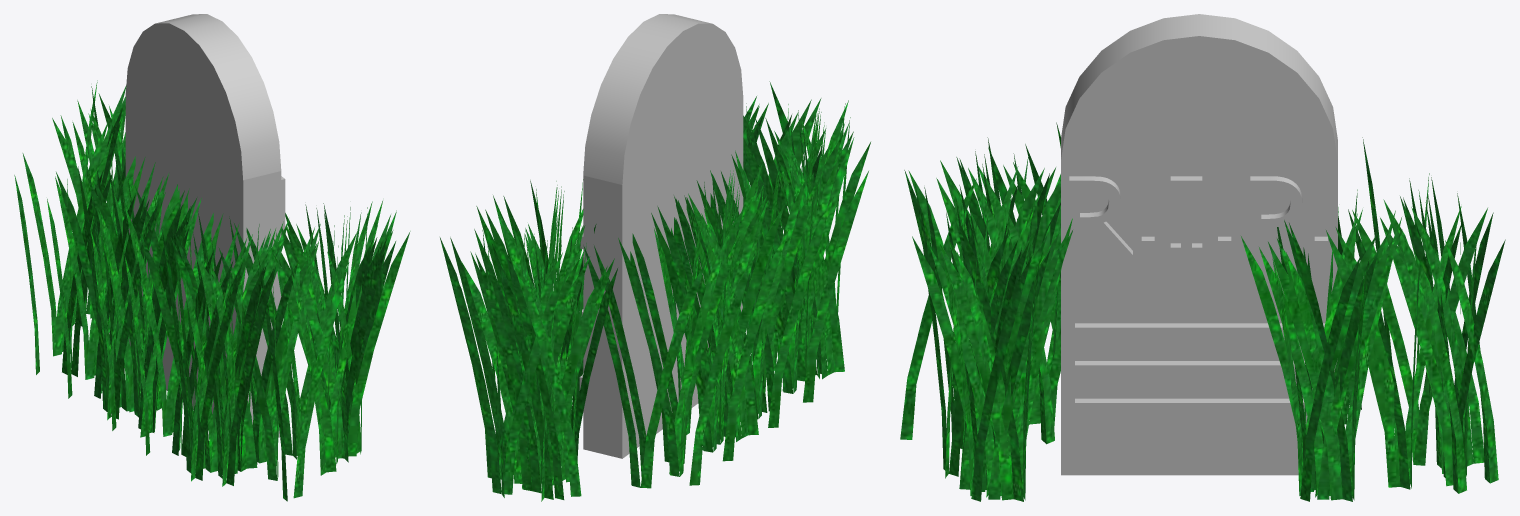
File: RIP.dae
The picture shows the model from 3 angles, left to right: view 1: azimuth 30°, elevation 25°; view 2: azimuth 150°, elevation 25°; view 3: azimuth 270°, elevation 25°; orthographic projection. The views are drawn at different scales.
Parts seen in each view (by area): view 1: Grass___Snake (×79), group_0; view 2: Grass___Snake (×63), group_0; view 3: group_0 (×4), Grass___Snake (×51), R.I.P. (×3).
Part boxes in pixels (x1,y1,x2,y2): Grass___Snake (×79): (14,116,410,501); group_0: (125,14,281,437); Grass___Snake (×63): (440,126,870,499); group_0: (583,14,743,458); group_0 (×4): (1061,14,1337,475); Grass___Snake (×51): (900,170,1505,501); R.I.P. (×3): (1069,176,1302,255).
Size of the model in its own units: 38.81 by 68.85 by 55.13.
